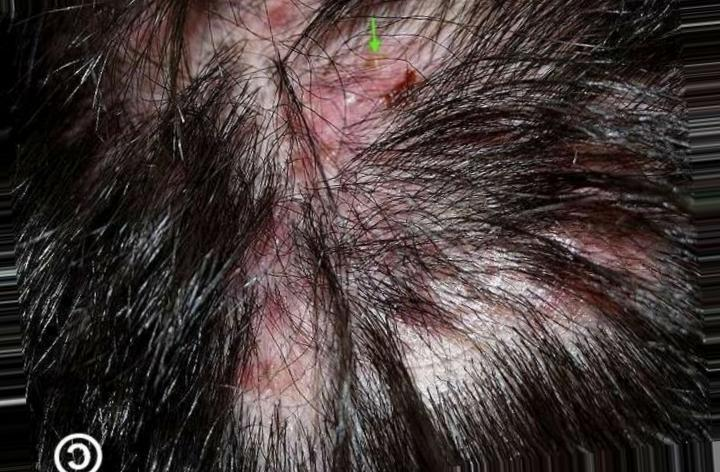Folliculitis: (221, 0, 455, 191)
